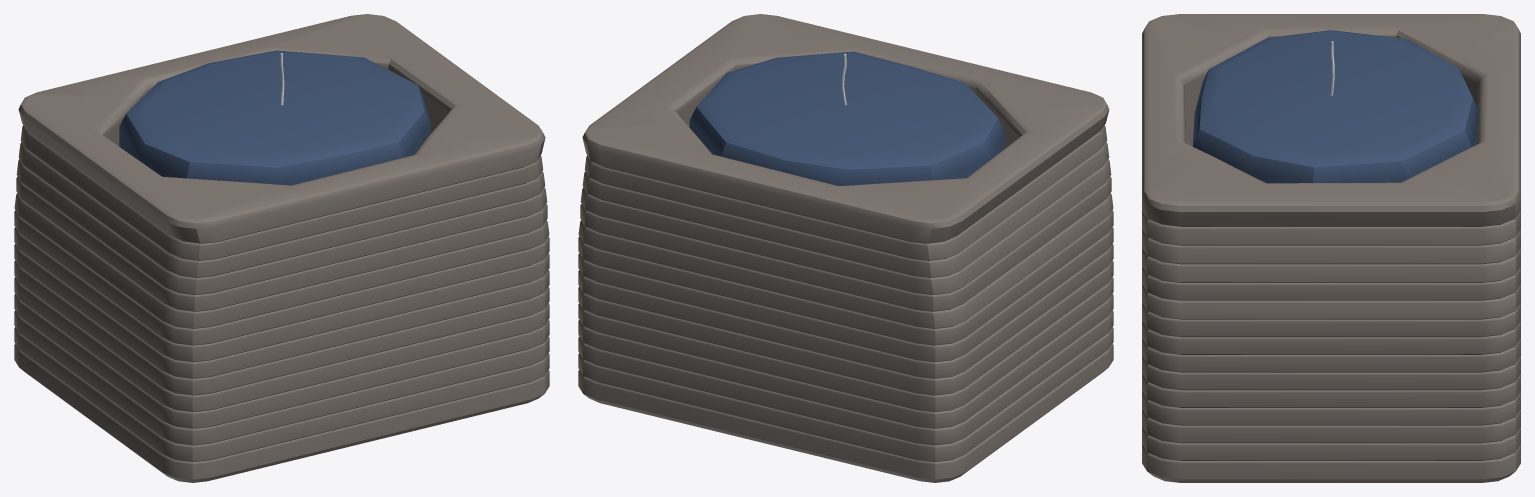
File: Kerze02.fbx
The picture shows the model from 3 angles, left to right: view 1: azimuth 30°, elevation 25°; view 2: azimuth 150°, elevation 25°; view 3: azimuth 270°, elevation 25°; orthographic projection. The views are drawn at different scales.
Visible parts, largest first — view 1: Kerze02; view 2: Kerze02; view 3: Kerze02.
Part boxes in pixels (bbox=[...]): Kerze02: bbox=[14, 14, 549, 482]; Kerze02: bbox=[578, 14, 1113, 482]; Kerze02: bbox=[1142, 14, 1520, 482].
Size of the model in its own units: 30.15 by 24.46 by 24.33.
